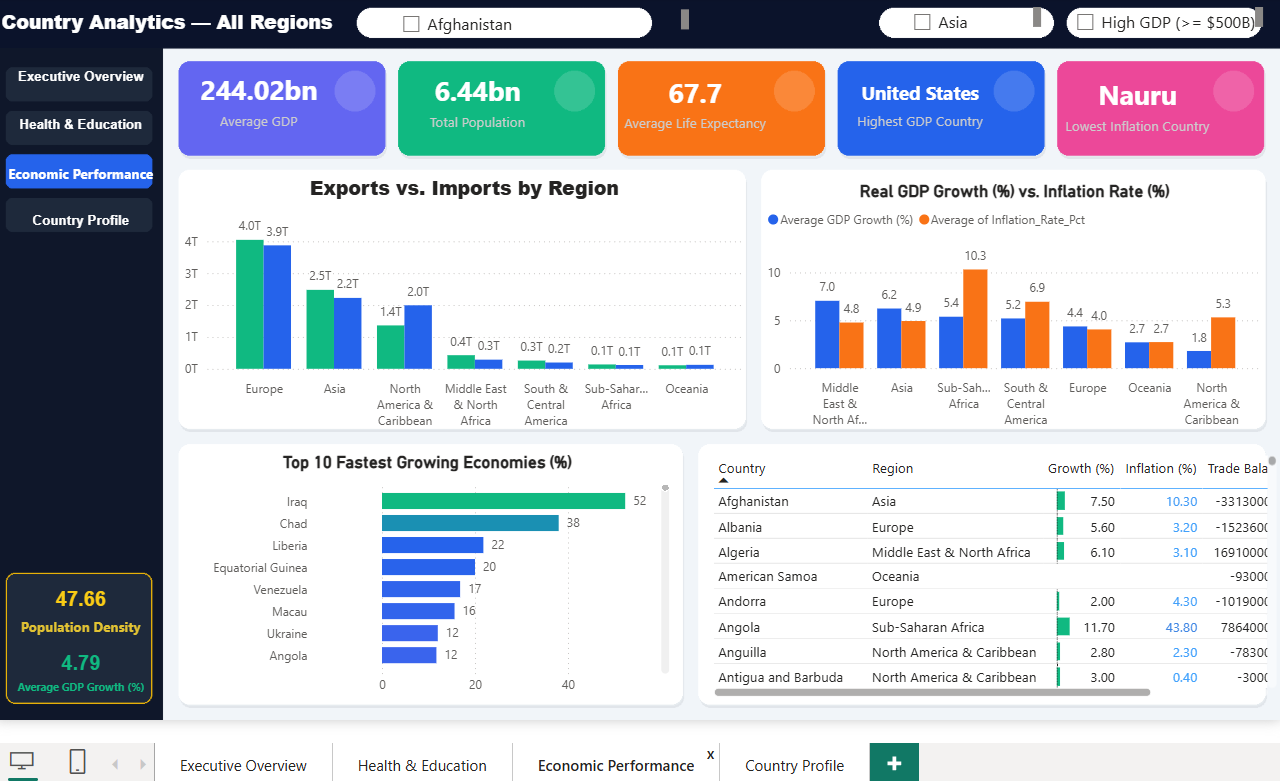

What the dashboard file says about the page in this screenshot:
{"tool":"powerbi","page":{"name":"Economic Performance","canvas":[1280,720],"ordinal":2},"visuals":[{"type":"card","fields":{"Values":["_Measures.Dynamic Dashboard Title"]},"box":[0,0,342.5,52.5],"z":0},{"type":"slicer","fields":{"Values":["Countries.Country"]},"box":[393.3,7.2,302.8,41],"z":1000},{"type":"slicer","fields":{"Values":["Countries.Region"]},"box":[902.5,5,144.2,41.7],"z":2000},{"type":"slicer","fields":{"Values":["Countries.GDP Category"]},"box":[1063.3,5.6,203.3,41.1],"z":3000},{"type":"card","fields":{"Values":["_Measures.Average GDP"]},"box":[171.1,27.8,182.2,150],"z":4000},{"type":"card","fields":{"Values":["_Measures.Total Population"]},"box":[390,28.9,182.2,150],"z":5000},{"type":"card","fields":{"Values":["_Measures.Average Life Expectancy"]},"box":[605.6,30,182.2,150],"z":6000},{"type":"card","fields":{"Values":["_Measures.Highest GDP Country"]},"box":[830,31.1,182.2,150],"z":7000},{"type":"card","fields":{"Values":["_Measures.Lowest Inflation Country"]},"box":[1046.7,32.2,182.2,150],"z":8000},{"type":"clusteredColumnChart","title":"Exports vs. Imports by Region","fields":{"Category":["Countries.Region"],"Y":["Sum(Countries.Exports)","Sum(Countries.Imports)"]},"box":[184.6,176.1,565.8,260.6],"z":9000},{"type":"clusteredColumnChart","title":"Real GDP Growth (%) vs. Inflation Rate (%)","fields":{"Category":["Countries.Region"],"Y":["_Measures.Average GDP Growth (%)","Avg(Countries.Inflation_Rate_Pct)"]},"box":[764.1,182.7,501.7,253.7],"z":10000},{"type":"clusteredBarChart","title":"Top 10 Fastest Growing Economies (%)","fields":{"Category":["Countries.Country"],"Y":["_Measures.Average GDP Growth (%)"]},"box":[184.6,452.4,492.2,249.7],"z":11000},{"type":"tableEx","fields":{"Values":["Countries.Country","Countries.Region","Sum(Countries.GDP_Growth_Rate_Pct)","Sum(Countries.Inflation_Rate_Pct)","_Measures.Trade Balance ($)","_Measures.Trade Balance Indicator"]},"box":[708.6,451.4,571.4,250],"z":12000},{"type":"pageNavigator","box":[0,67.1,171.4,168.6],"z":13000},{"type":"card","fields":{"Values":["_Measures.Population Density"]},"box":[0,577.1,171.4,64.3],"z":13001},{"type":"card","fields":{"Values":["_Measures.Average GDP Growth (%)"]},"box":[0,638.6,171.4,64.3],"z":13002}]}

Visuals, with their boxes on the page's 1280x720 design canvas (x1, y1, x2, y2). These are canvas units, not pixel positions in the 1280x781 screenshot, which may show the page scaled, cropped or inside an application window:
card - _Measures.Dynamic Dashboard Title: crop(0, 0, 342, 52)
slicer - Countries.Country: crop(393, 7, 696, 48)
slicer - Countries.Region: crop(902, 5, 1047, 47)
slicer - Countries.GDP Category: crop(1063, 6, 1267, 47)
card - _Measures.Average GDP: crop(171, 28, 353, 178)
card - _Measures.Total Population: crop(390, 29, 572, 179)
card - _Measures.Average Life Expectancy: crop(606, 30, 788, 180)
card - _Measures.Highest GDP Country: crop(830, 31, 1012, 181)
card - _Measures.Lowest Inflation Country: crop(1047, 32, 1229, 182)
"Exports vs. Imports by Region" clusteredColumnChart: crop(185, 176, 750, 437)
"Real GDP Growth (%) vs. Inflation Rate (%)" clusteredColumnChart: crop(764, 183, 1266, 436)
"Top 10 Fastest Growing Economies (%)" clusteredBarChart: crop(185, 452, 677, 702)
tableEx - Countries.Country x Countries.Region: crop(709, 451, 1280, 701)
pageNavigator: crop(0, 67, 171, 236)
card - _Measures.Population Density: crop(0, 577, 171, 641)
card - _Measures.Average GDP Growth (%): crop(0, 639, 171, 703)
